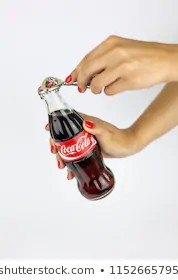coke-glass-bottle: (33, 75, 116, 200)
